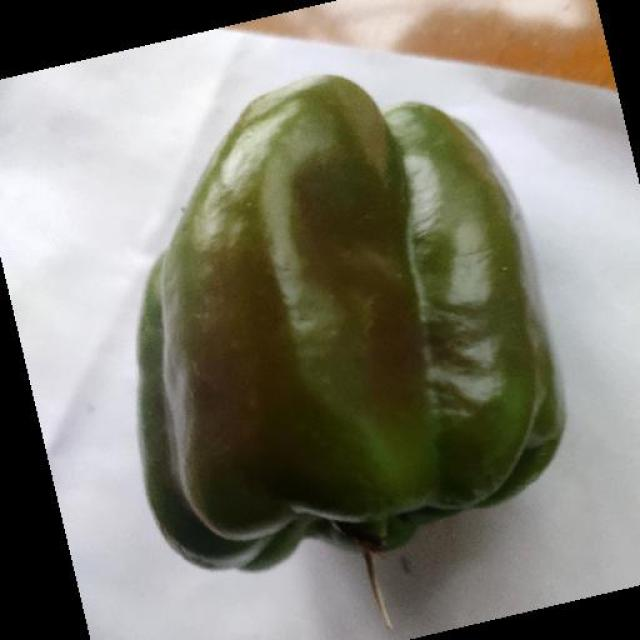Stale_Capsicum: (116, 59, 539, 553)
